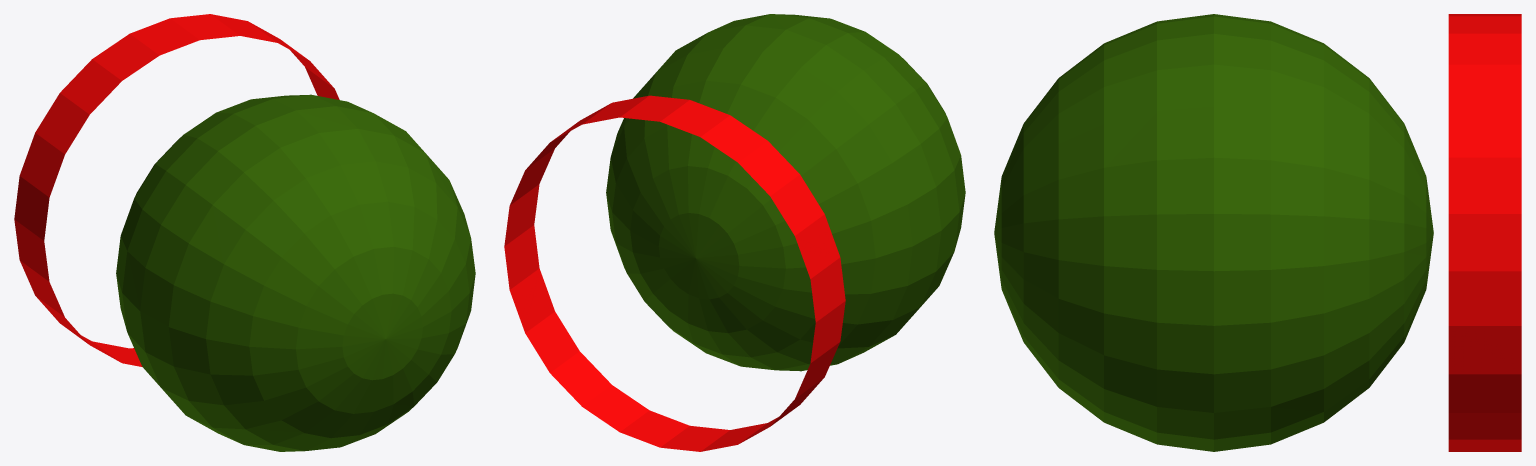
The model's file is LPEo300cm.obj.
3 renders of one model, left to right at view 1: azimuth 30°, elevation 25°; view 2: azimuth 150°, elevation 25°; view 3: azimuth 270°, elevation 25°, orthographic. The views are drawn at different scales.
Bounding box in the file's own units: 3 × 3 × 3.6.
